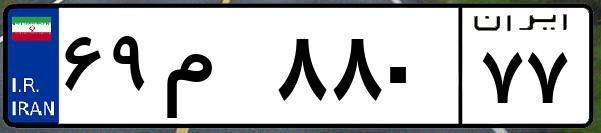0: (385, 28, 445, 110)
6: (57, 26, 110, 100)
7: (475, 38, 525, 113), (525, 38, 570, 115)
8: (270, 28, 330, 110), (330, 28, 385, 110)
9: (110, 28, 158, 98)
م: (158, 20, 270, 120)
